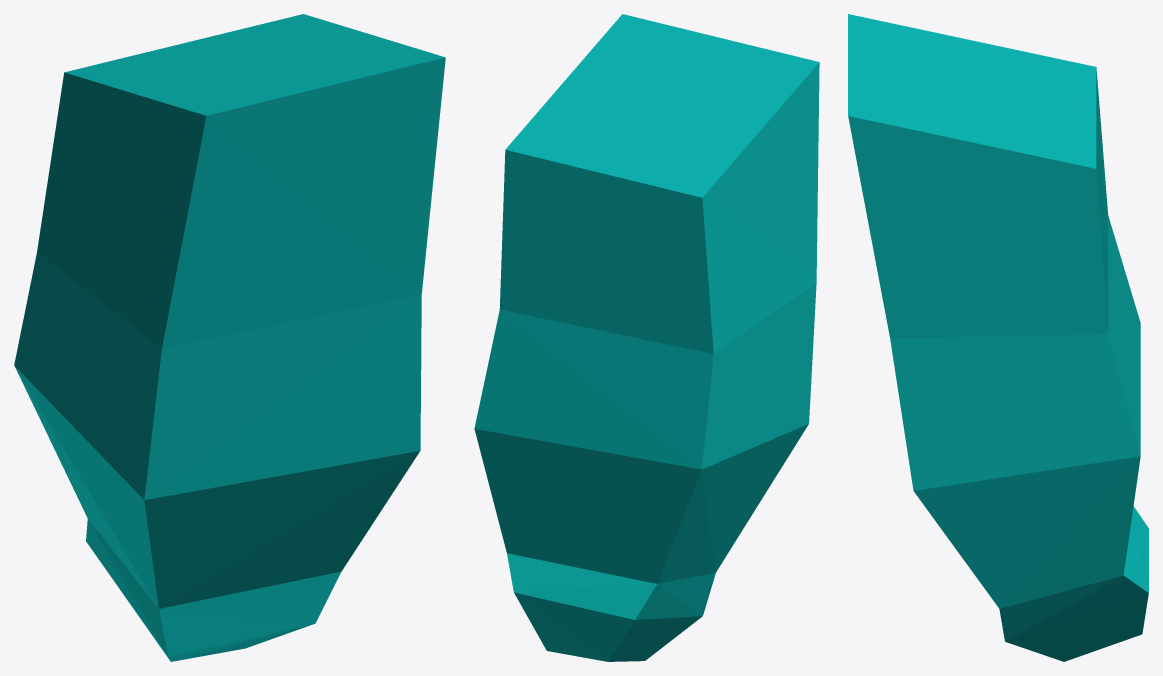
File: left_upper_arm.dae
3 renders of one model, left to right at view 1: azimuth 30°, elevation 25°; view 2: azimuth 150°, elevation 25°; view 3: azimuth 270°, elevation 25°, orthographic. The views are drawn at different scales.
Parts seen in each view (by area): view 1: left_upper_arm; view 2: left_upper_arm; view 3: left_upper_arm.
Boxes of the visible parts, x1,y1,x2,y2 form: left_upper_arm: [14, 14, 445, 661]; left_upper_arm: [474, 14, 819, 661]; left_upper_arm: [848, 14, 1148, 661].
Size of the model in its own units: 0.1479 by 0.1597 by 0.3392.
